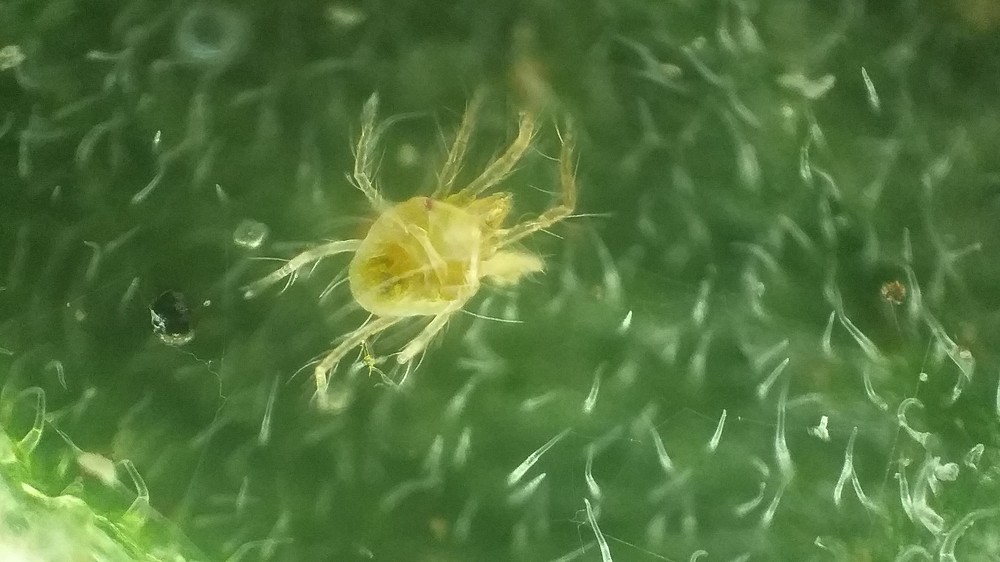Aracnido Rojo: (215, 75, 619, 415)
